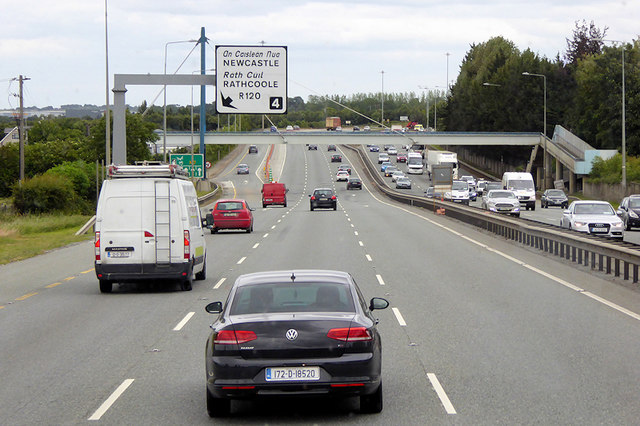bridge: (149, 124, 546, 150)
